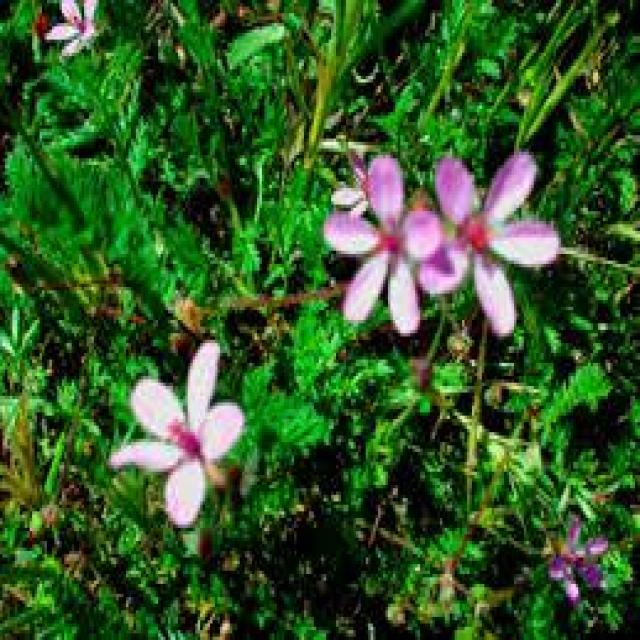organic waste: (425, 162, 563, 340), (108, 356, 244, 531), (312, 150, 442, 328), (538, 516, 622, 602), (58, 3, 108, 76)
